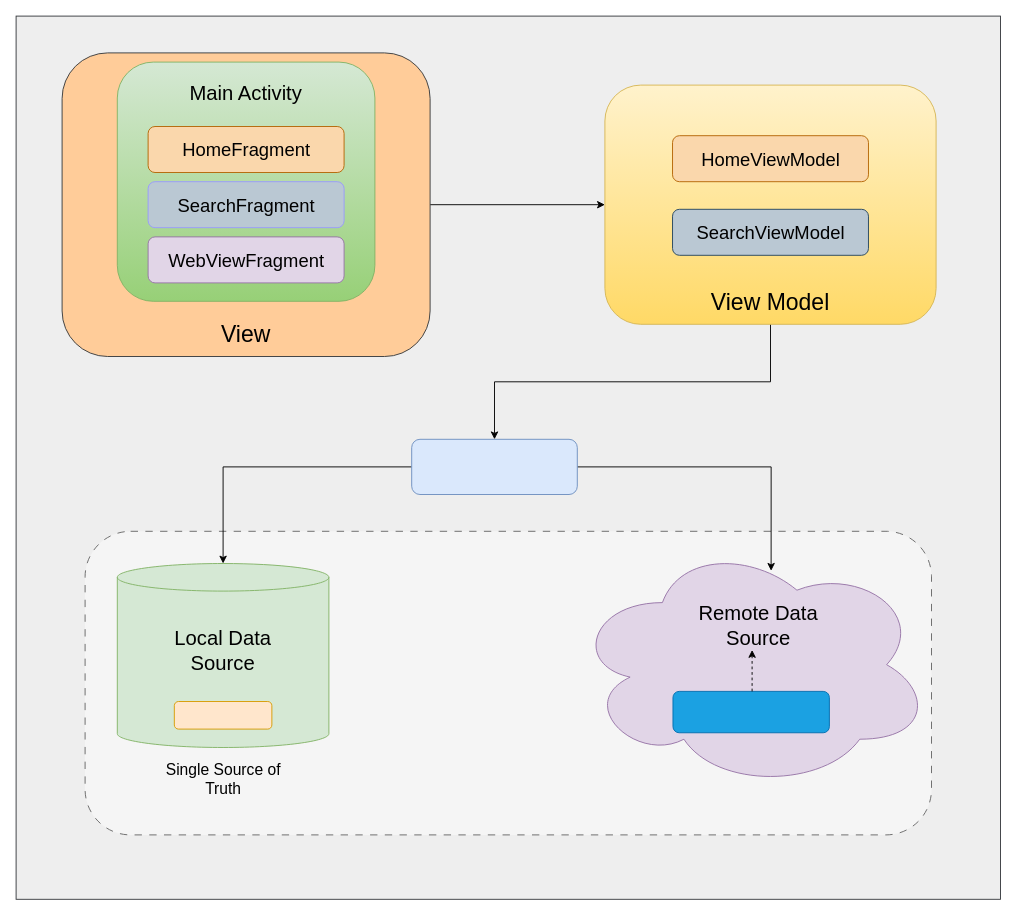
The diagram is 1017 pixels wide and 915 high, and some of its shapes have lost their labels. The shapes that lost their labels are listed below. From the top down, each one's centre as x and y in pixels, then its label:
At point (494, 466): "Repository".
At point (222, 715): "RoomDB".
At point (750, 711): "StackOverflow API".
